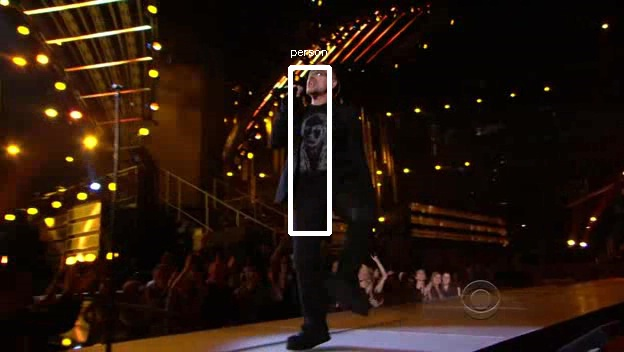person: (280, 63, 370, 232), (277, 63, 367, 232), (283, 63, 373, 232), (280, 60, 370, 229), (280, 66, 370, 235)
target_negative: (338, 251, 601, 316), (104, 129, 203, 179), (415, 297, 518, 344), (612, 57, 615, 246), (593, 273, 600, 352)
